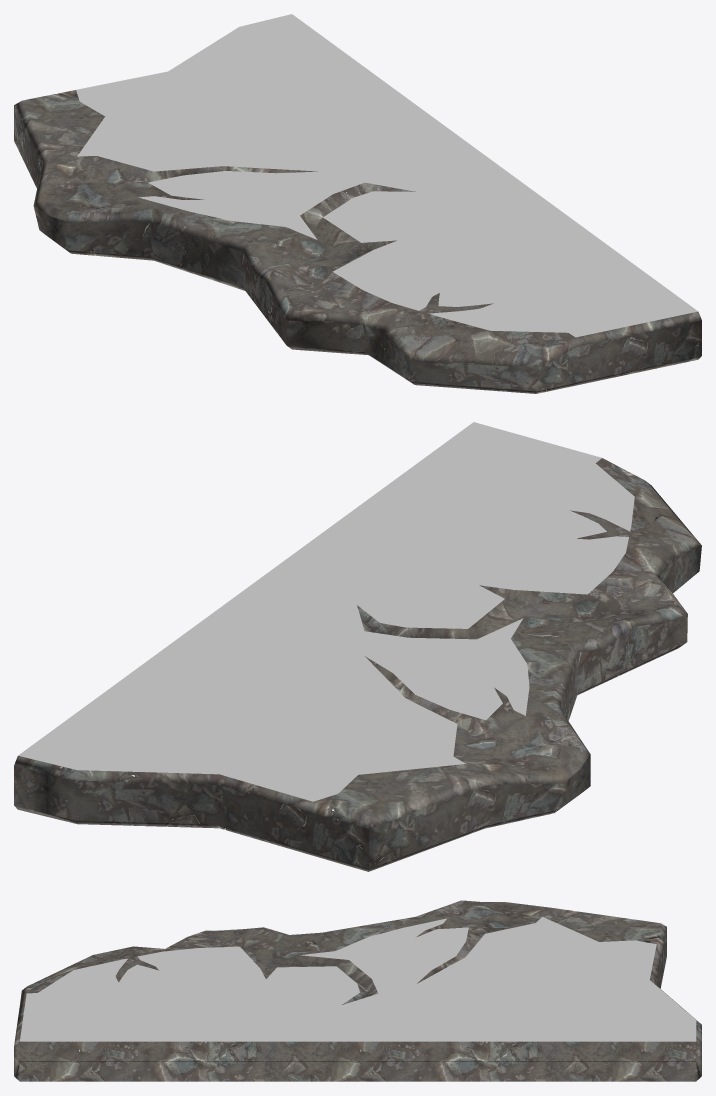
3 views of the same model, one above another, from view 1: azimuth 30°, elevation 25°; view 2: azimuth 150°, elevation 25°; view 3: azimuth 270°, elevation 25° (orthographic). The views are drawn at different scales.
Visible parts, largest first — view 1: SM_Greathall_Floor_8x8_Dmg_03_LOD0; view 2: SM_Greathall_Floor_8x8_Dmg_03_LOD0; view 3: SM_Greathall_Floor_8x8_Dmg_03_LOD0.
Boxes of the visible parts, box(x1,y1,x2,y2) form: SM_Greathall_Floor_8x8_Dmg_03_LOD0: box(14, 14, 701, 393); SM_Greathall_Floor_8x8_Dmg_03_LOD0: box(14, 422, 701, 871); SM_Greathall_Floor_8x8_Dmg_03_LOD0: box(14, 900, 701, 1081).
Bounding box in the file's own units: 4.05 × 0.5 × 7.78.
